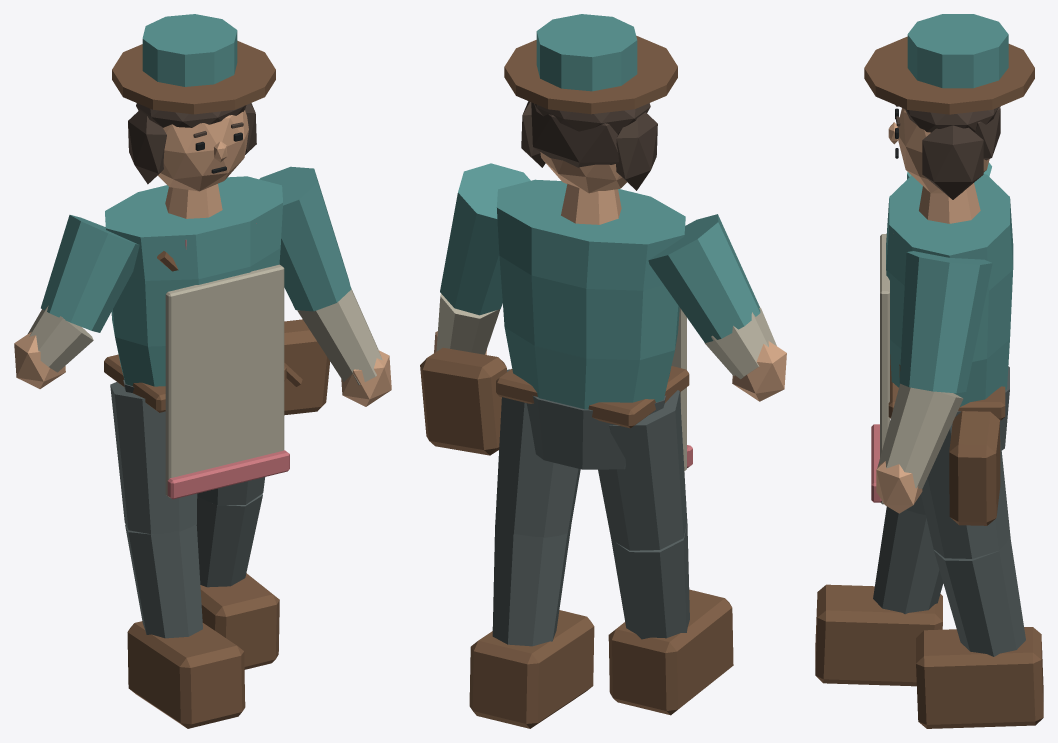
The model's file is npc_merchant_step_l_v01.glb.
The picture shows the model from 3 angles, left to right: view 1: azimuth 30°, elevation 25°; view 2: azimuth 150°, elevation 25°; view 3: azimuth 270°, elevation 25°; orthographic projection. The views are drawn at different scales.
Parts seen in each view (by area): view 1: GEO_npc_merchant_step_l_v01; view 2: GEO_npc_merchant_step_l_v01; view 3: GEO_npc_merchant_step_l_v01.
Boxes of the visible parts, bbox=[...] form: GEO_npc_merchant_step_l_v01: bbox=[14, 14, 391, 728]; GEO_npc_merchant_step_l_v01: bbox=[420, 14, 786, 728]; GEO_npc_merchant_step_l_v01: bbox=[815, 14, 1043, 728].
Size of the model in its own units: 1.26 by 2.17 by 0.6804.
